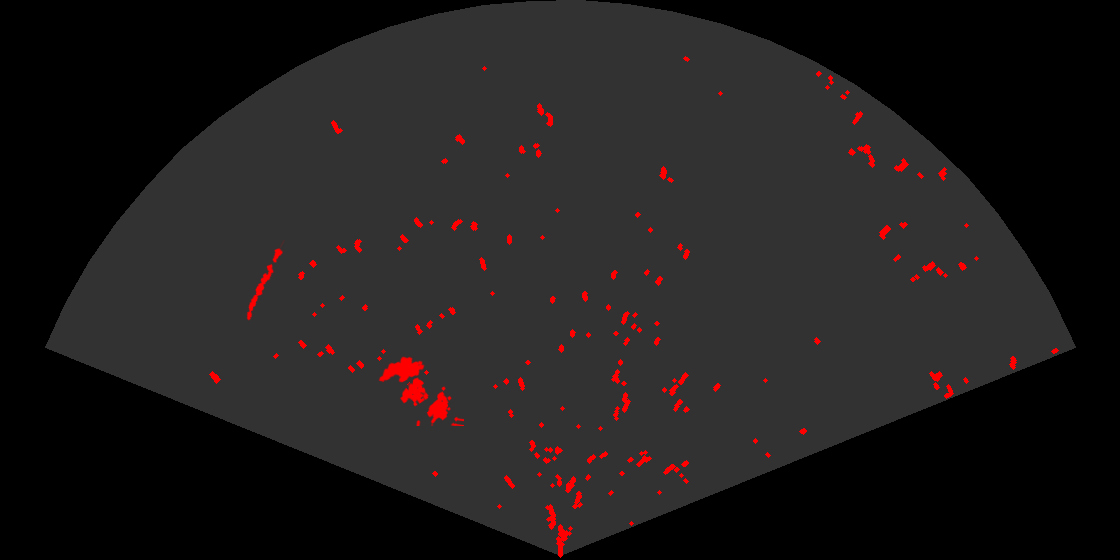AUV: (377, 355, 426, 384)
cage: (398, 376, 464, 426)
chain: (245, 240, 286, 322)
